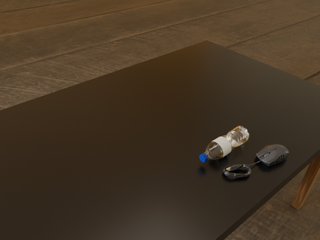bottle: (199, 126, 249, 162)
mouse: (256, 144, 289, 166)
